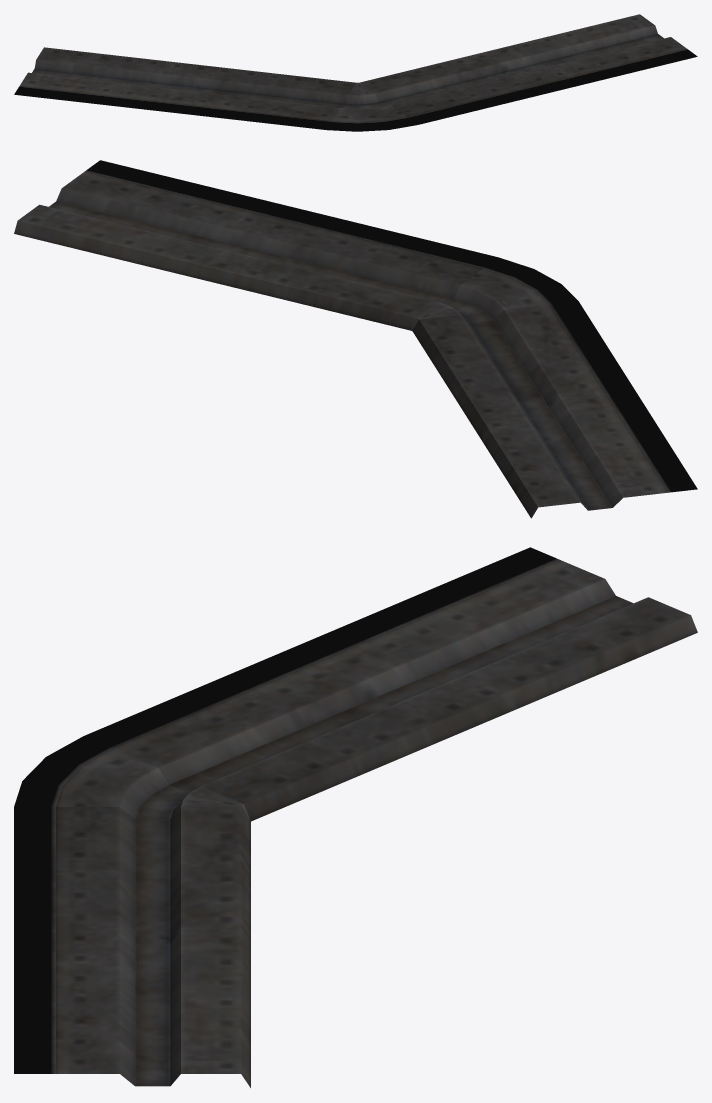
File: lab_floor_welder_concave_45_noyellow.dae
3 renders of one model, top to bottom at view 1: azimuth 30°, elevation 25°; view 2: azimuth 150°, elevation 25°; view 3: azimuth 270°, elevation 25°, orthographic. The views are drawn at different scales.
Parts seen in each view (by area): view 1: floor_welder_concave_45_noyellow; view 2: floor_welder_concave_45_noyellow; view 3: floor_welder_concave_45_noyellow.
Part boxes in pixels (box(x1,y1,x2,y2)): floor_welder_concave_45_noyellow: box(14, 14, 697, 131); floor_welder_concave_45_noyellow: box(14, 160, 697, 518); floor_welder_concave_45_noyellow: box(14, 547, 697, 1087).
Size of the model in its own units: 1.97 by 0.0254 by 1.08.
